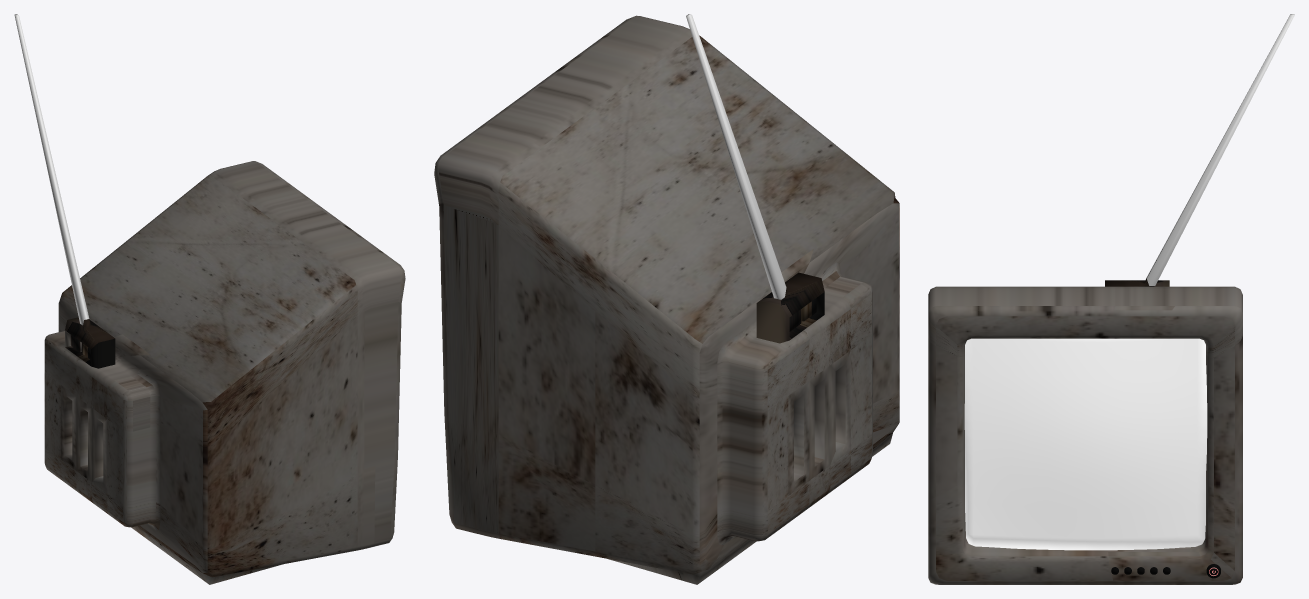
3 renders of one model, left to right at view 1: azimuth 30°, elevation 25°; view 2: azimuth 150°, elevation 25°; view 3: azimuth 270°, elevation 25°, orthographic. The views are drawn at different scales.
Visible parts, largest first — view 1: Monitor, Anatena; view 2: Monitor, Anatena; view 3: Display, Monitor, Anatena.
Part boxes in pixels (x1,y1,x2,y2): Monitor: (44,161,405,584); Anatena: (14,14,89,325); Monitor: (434,15,899,584); Anatena: (686,14,786,299); Display: (964,338,1207,550); Monitor: (928,277,1242,584); Anatena: (1147,14,1294,285).
Bounding box in the file's own units: 1.8 × 3.29 × 2.33.
5 materials, 1 textured.
